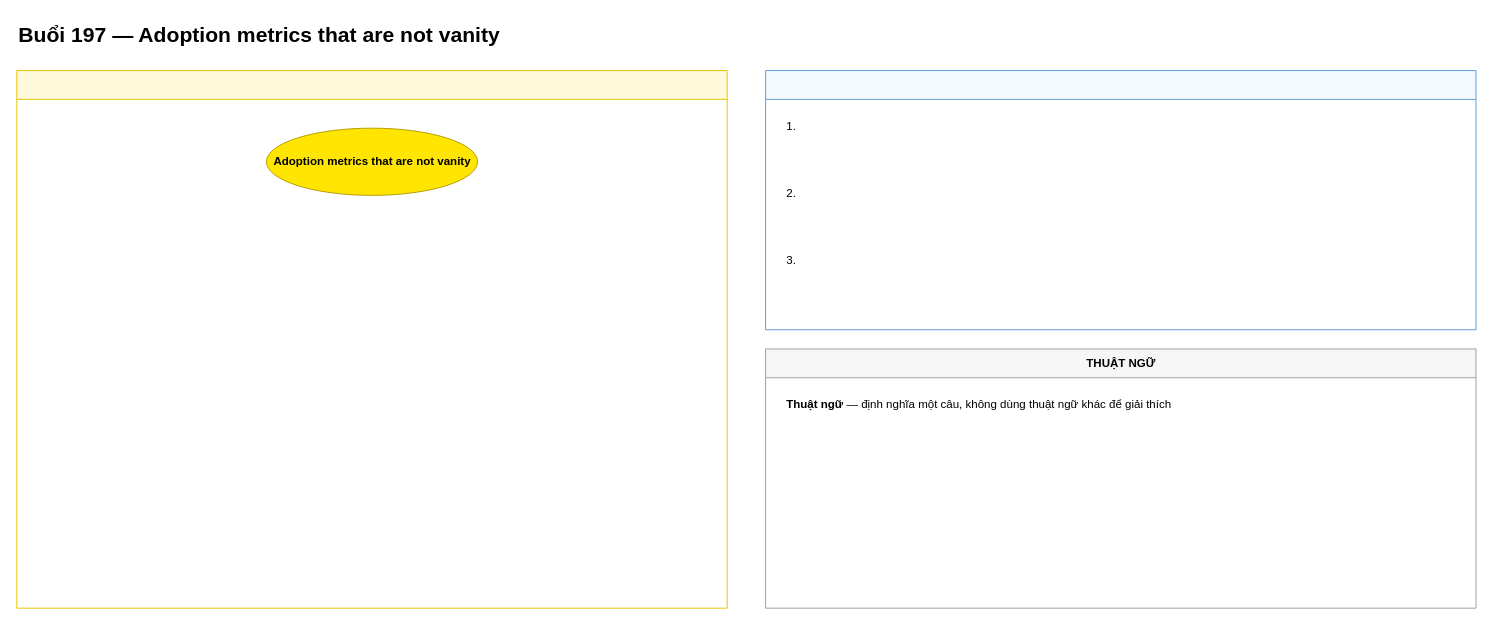
The diagram is 1493 pixels wide and 625 high, and some of its shapes have lost their labels. Here are the shapes that lost their labels. From the top down, the box of each, then its label:
(765, 70, 1476, 330): KEY TAKEAWAY — ba điều phải nhớ
(16, 70, 727, 608): MINDMAP
